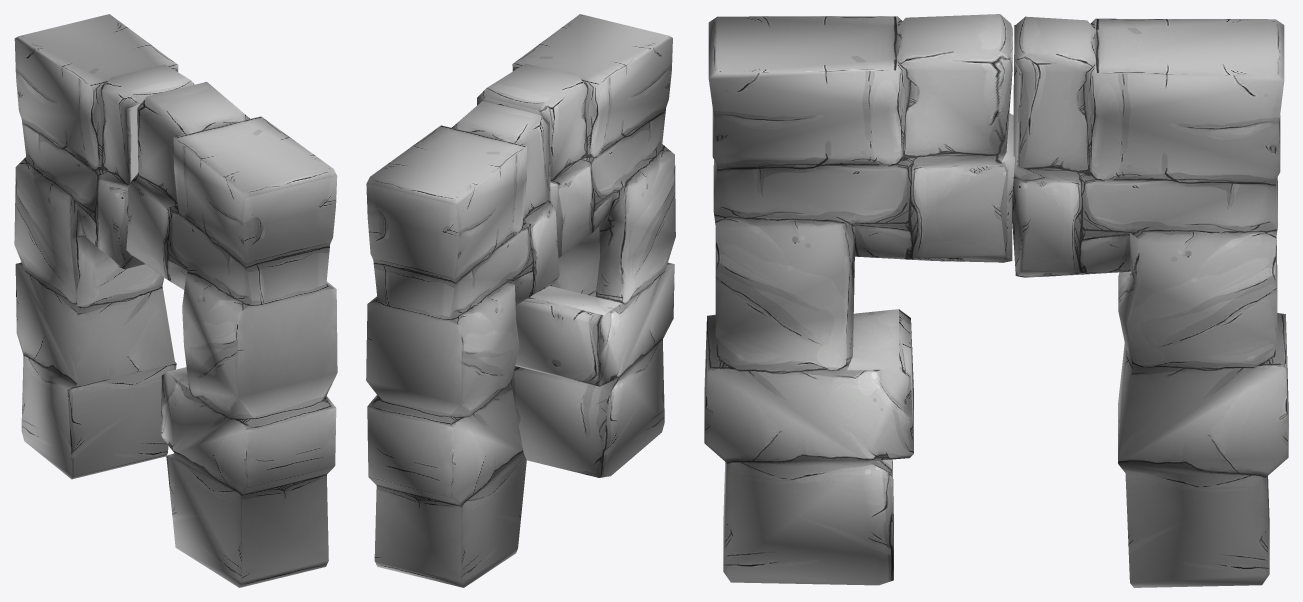
Rendered from DoorWayLR.FBX.
The picture shows the model from 3 angles, left to right: view 1: azimuth 30°, elevation 25°; view 2: azimuth 150°, elevation 25°; view 3: azimuth 270°, elevation 25°; orthographic projection. The views are drawn at different scales.
Parts seen in each view (by area): view 1: Doorway_Left, Doorway_Right; view 2: Doorway_Right, Doorway_Left; view 3: Doorway_Left, Doorway_Right.
Part boxes in pixels (bbox=[...]): Doorway_Left: bbox=[126, 82, 337, 587]; Doorway_Right: bbox=[14, 14, 194, 479]; Doorway_Right: bbox=[366, 101, 559, 587]; Doorway_Left: bbox=[477, 14, 675, 477]; Doorway_Left: bbox=[704, 14, 1014, 585]; Doorway_Right: bbox=[1012, 16, 1288, 587].
Size of the model in its own units: 152 by 529 by 529.
